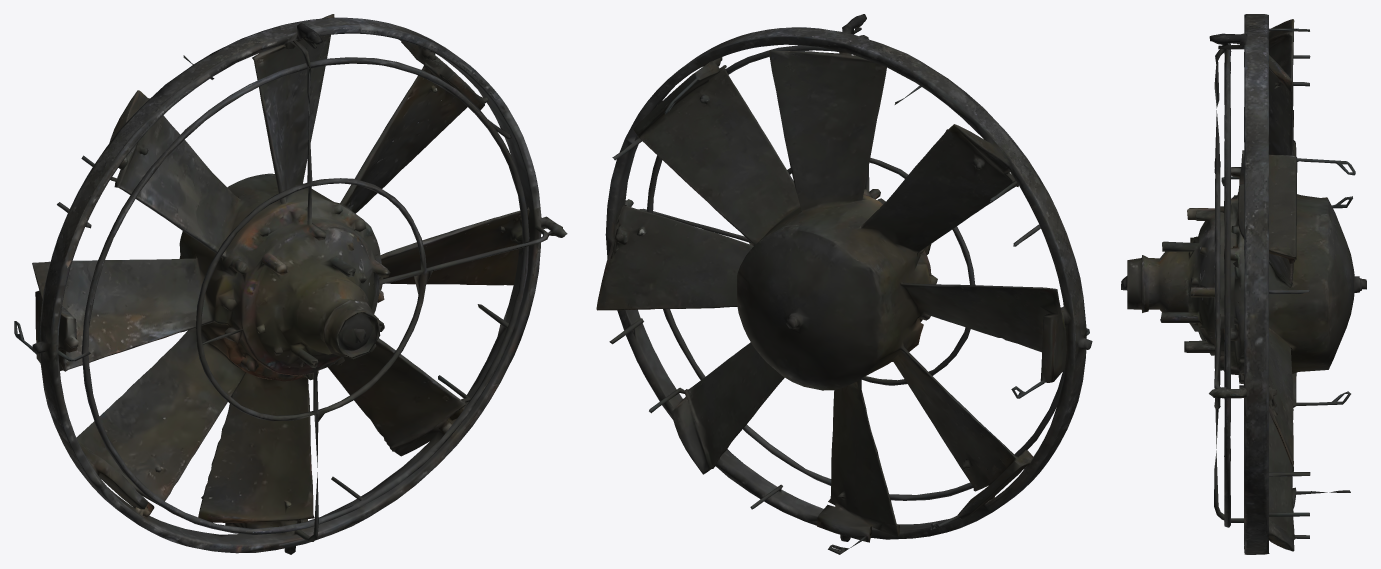
File: shuttle_fan_rotor.glb
3 renders of one model, left to right at view 1: azimuth 30°, elevation 25°; view 2: azimuth 150°, elevation 25°; view 3: azimuth 270°, elevation 25°, orthographic. The views are drawn at different scales.
Visible parts, largest first — view 1: tripo_node_2f9d0232-6f2a-4bbf-a01b-1032c9abbe7a; view 2: tripo_node_2f9d0232-6f2a-4bbf-a01b-1032c9abbe7a; view 3: tripo_node_2f9d0232-6f2a-4bbf-a01b-1032c9abbe7a.
Boxes of the visible parts, x1=… form: tripo_node_2f9d0232-6f2a-4bbf-a01b-1032c9abbe7a: x1=14, y1=14, x2=567, y2=554; tripo_node_2f9d0232-6f2a-4bbf-a01b-1032c9abbe7a: x1=596, y1=14, x2=1092, y2=554; tripo_node_2f9d0232-6f2a-4bbf-a01b-1032c9abbe7a: x1=1121, y1=14, x2=1366, y2=554.
Bounding box in the file's own units: 0.9786 × 0.9768 × 0.4281.
Materials: 1 (1 with a texture image).
